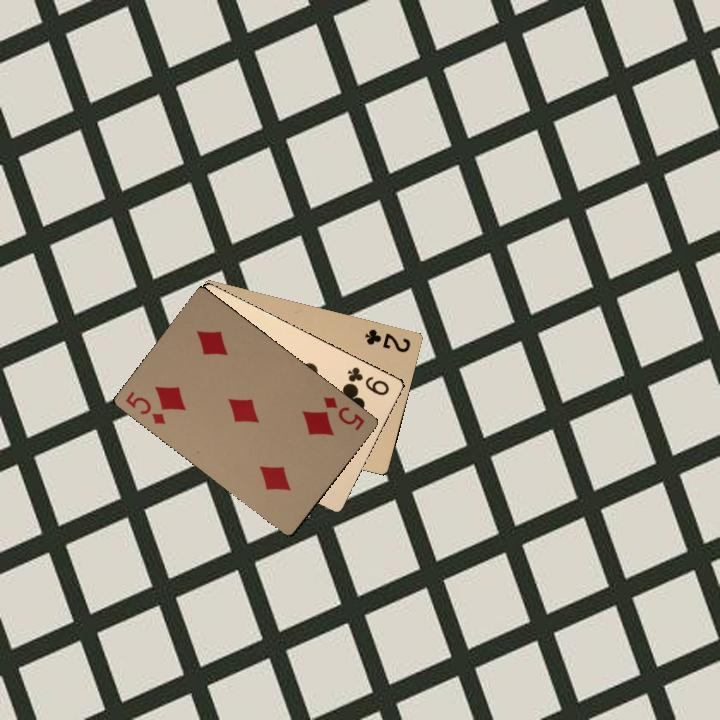2c: (360, 325, 413, 355)
5d: (319, 393, 367, 433), (121, 387, 168, 427)
9c: (343, 363, 392, 398)
